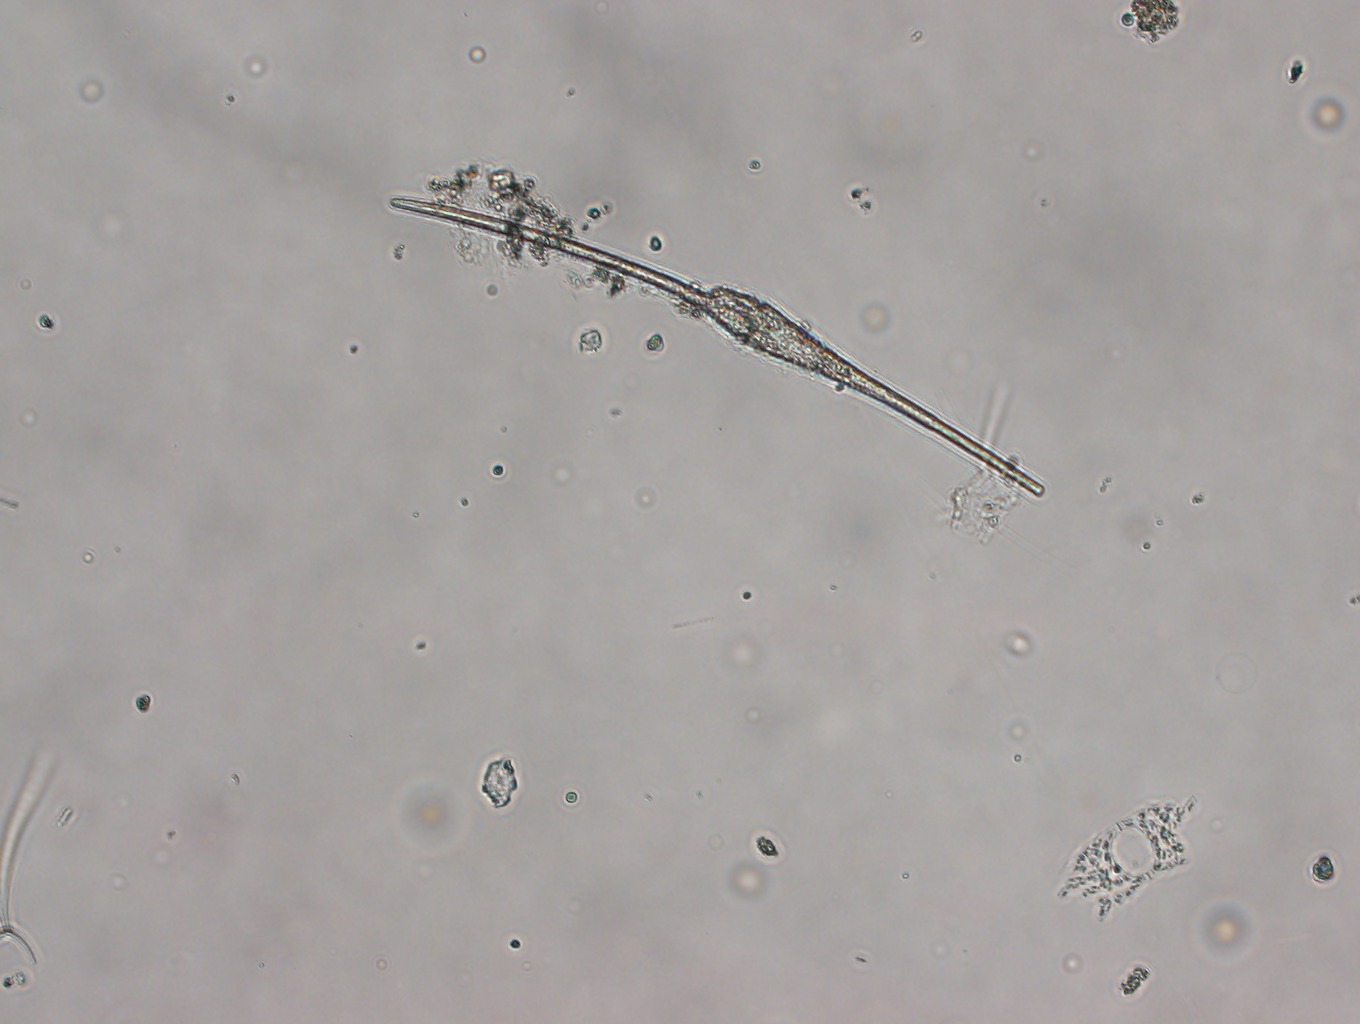ceratium fusus: (384, 191, 1045, 506)
eucampia: (1041, 790, 1206, 927)
